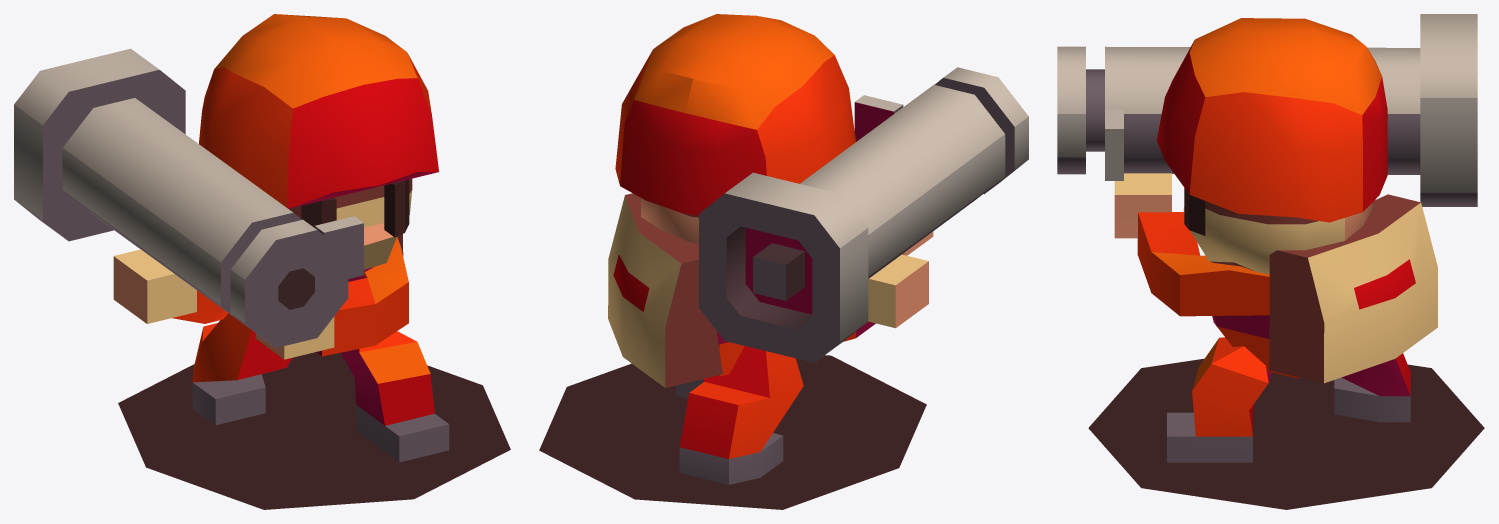
The model's file is MechMesh.OrangeStar.glb.
3 renders of one model, left to right at view 1: azimuth 30°, elevation 25°; view 2: azimuth 150°, elevation 25°; view 3: azimuth 270°, elevation 25°, orthographic.
Visible parts, largest first — view 1: MechMesh.OrangeStar; view 2: MechMesh.OrangeStar; view 3: MechMesh.OrangeStar.
Boxes of the visible parts, x1,y1,x2,y2 form: MechMesh.OrangeStar: (14, 14, 510, 509); MechMesh.OrangeStar: (539, 14, 1028, 509); MechMesh.OrangeStar: (1057, 14, 1484, 509).
Bounding box in the file's own units: 2.24 × 2.3 × 2.24.
Materials: 1 (1 with a texture image).
